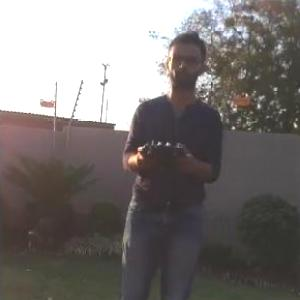follow: (113, 24, 230, 299)
